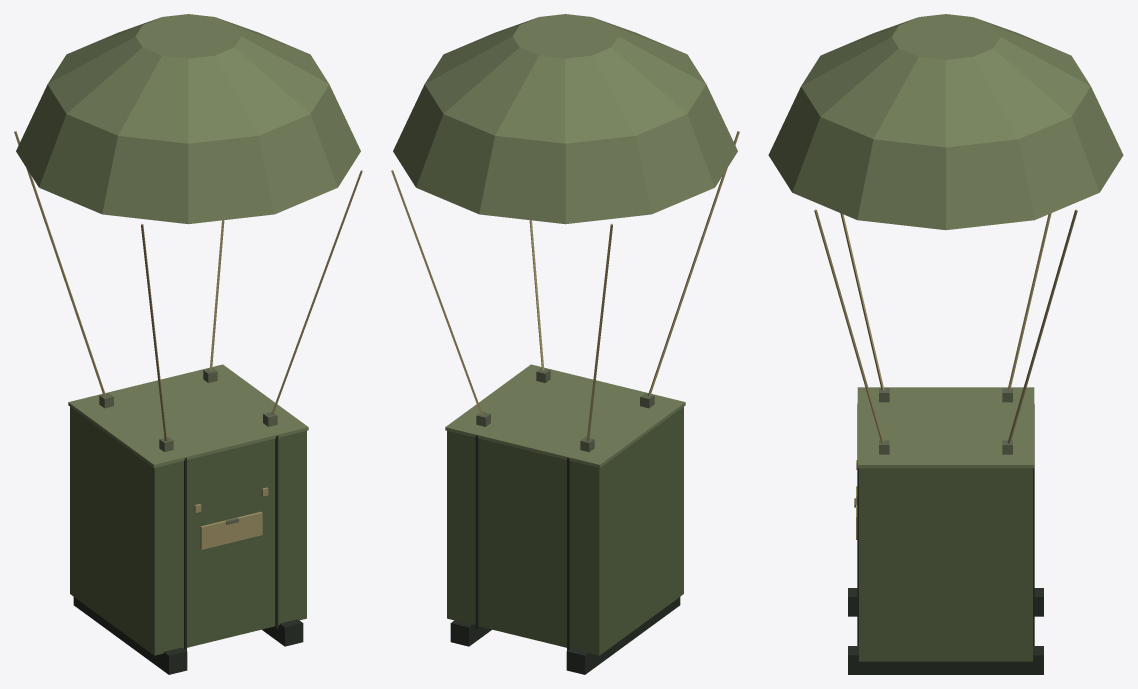
Rendered from airdrop.obj.
The picture shows the model from 3 angles, left to right: view 1: azimuth 30°, elevation 25°; view 2: azimuth 150°, elevation 25°; view 3: azimuth 270°, elevation 25°; orthographic projection. The views are drawn at different scales.
Visible parts, largest first — view 1: Body.003, Canopy; view 2: Body.003, Canopy; view 3: Canopy, Body.003.
Boxes of the visible parts, box(x1,y1,x2,y2) form: Body.003: box(68, 364, 308, 674); Canopy: box(14, 14, 362, 441); Body.003: box(445, 364, 685, 674); Canopy: box(391, 14, 739, 441); Canopy: box(768, 14, 1123, 443); Body.003: box(848, 387, 1043, 674).
Bounding box in the file's own units: 4.9 × 9.2 × 4.9.
1 material, 1 textured.
